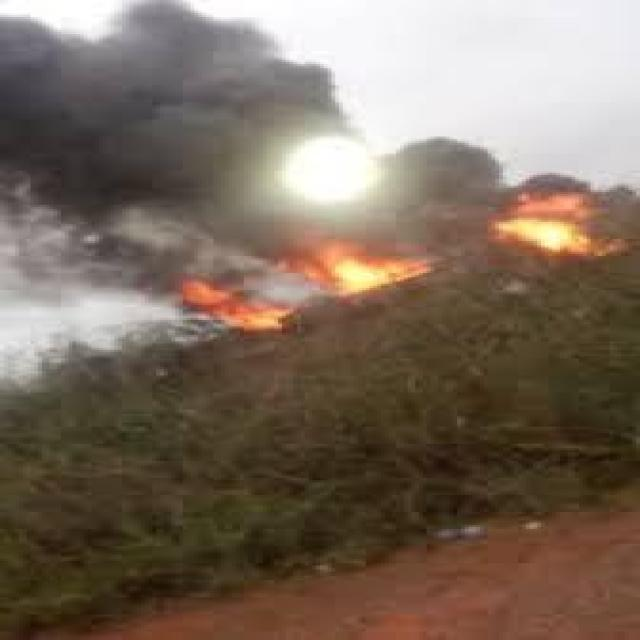fire: (479, 191, 614, 255), (286, 239, 432, 287), (175, 279, 288, 329)
other: (268, 132, 388, 198)
smoke: (10, 12, 286, 254), (395, 132, 514, 237)
